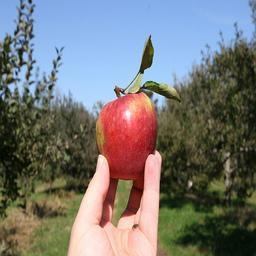apple: (95, 92, 157, 180)
